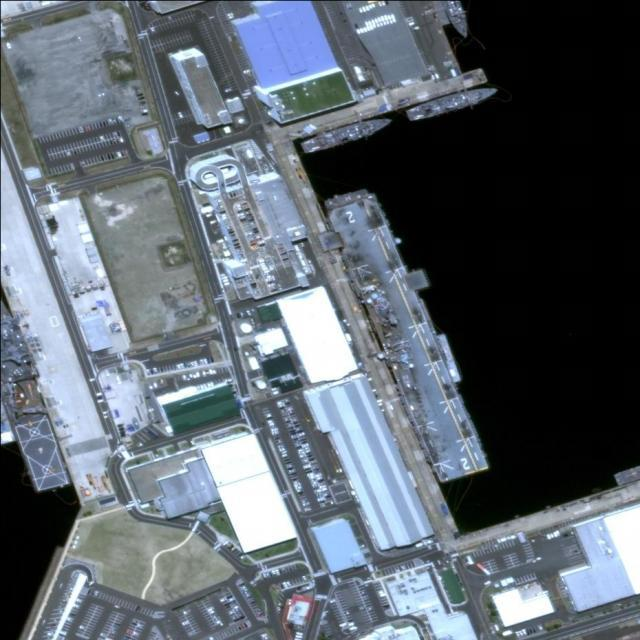Landing: (317, 182, 489, 487)
Other Warship: (299, 111, 394, 158), (404, 83, 500, 125)
